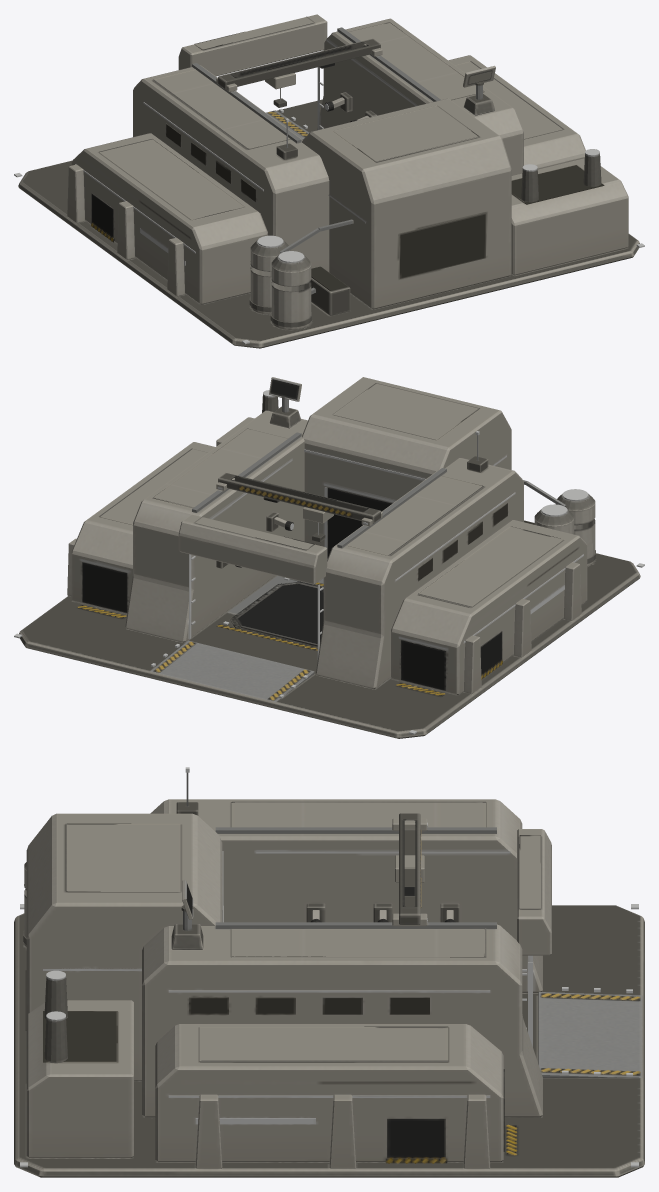
The model's file is ord_advvehplant.fbx.
3 views of the same model, one above another, from view 1: azimuth 30°, elevation 25°; view 2: azimuth 150°, elevation 25°; view 3: azimuth 270°, elevation 25° (orthographic). The views are drawn at different scales.
Parts seen in each view (by area): view 1: base_bar, gantry_bar, base_glow_power_bar, base_glow_running_bar, radar_bar; view 2: base_bar, gantry_bar, base_glow_power_bar, base_glow_running_bar, radar_bar; view 3: base_bar, base_glow_running_bar, gantry_bar, base_glow_power_bar.
Boxes of the visible parts, left/top/right/bottom form: base_bar: left=18, top=14, right=639, bottom=348; gantry_bar: left=216, top=38, right=382, bottom=107; base_glow_power_bar: left=140, top=67, right=599, bottom=265; base_glow_running_bar: left=14, top=39, right=644, bottom=344; radar_bar: left=463, top=65, right=495, bottom=87; base_bar: left=19, top=377, right=640, bottom=738; gantry_bar: left=216, top=473, right=382, bottom=542; base_glow_power_bar: left=189, top=390, right=588, bottom=659; base_glow_running_bar: left=14, top=431, right=644, bottom=734; radar_bar: left=269, top=377, right=301, bottom=401; base_bar: left=14, top=772, right=644, bottom=1177; base_glow_running_bar: left=20, top=767, right=638, bottom=1167; gantry_bar: left=392, top=813, right=427, bottom=925; base_glow_power_bar: left=46, top=906, right=532, bottom=1124.
Bounding box in the file's own units: 4711 × 2009 × 4711.
2 materials, 2 textured.
